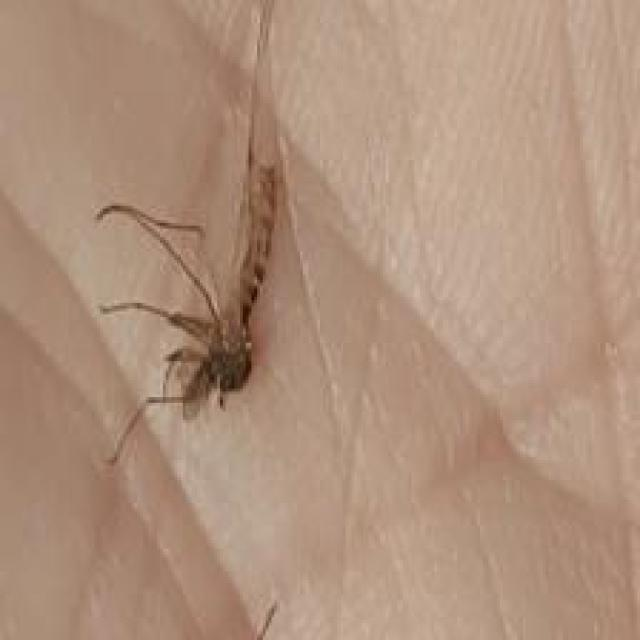Culex: (93, 0, 290, 466)
